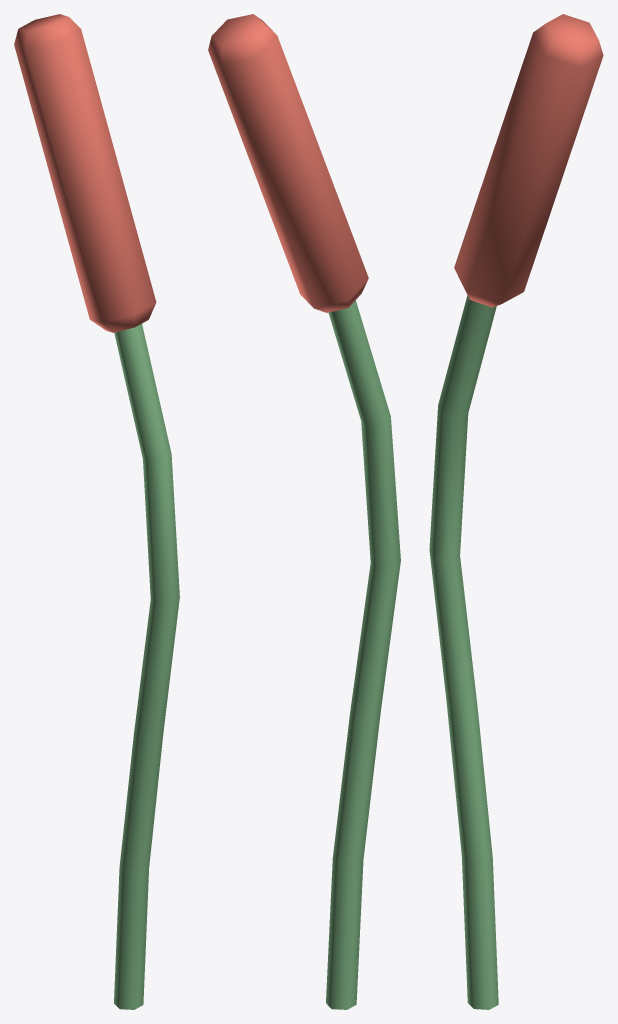
The model's file is cattail_2.fbx.
3 views of the same model, side by side, from view 1: azimuth 90°, elevation 25°; view 2: azimuth 150°, elevation 25°; view 3: azimuth 270°, elevation 25° (orthographic). The views are drawn at different scales.
Visible parts, largest first — view 1: cattail.001; view 2: cattail.001; view 3: cattail.001.
Boxes of the visible parts, left/top/right/bottom form: cattail.001: left=14, top=14, right=179, bottom=1009; cattail.001: left=208, top=14, right=400, bottom=1009; cattail.001: left=429, top=14, right=603, bottom=1009.
Bounding box in the file's own units: 17.71 × 138 × 21.55.
